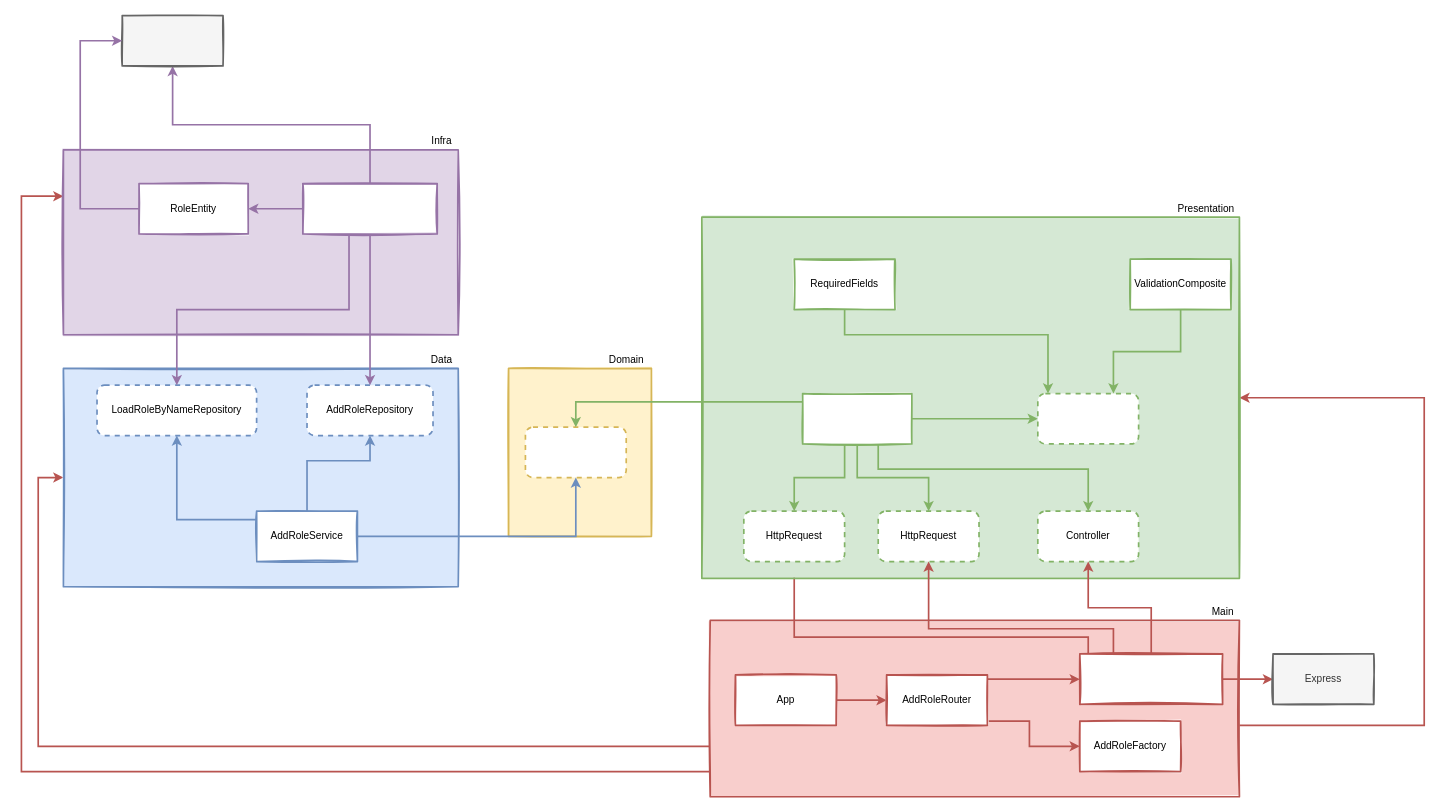
Image size: 1446x811. Some labels were removed from this diagram. Here are the shapes that lost their labels. From the top down, the centre of each, then its label:
At (x=172, y=40): "TypeOrm".
At (x=370, y=208): "RolePgRepository".
At (x=856, y=418): "AddRoleController".
At (x=1088, y=418): "Validation".
At (x=575, y=452): "AddRole".
At (x=1151, y=679): "ExpressRouterAdapter".
